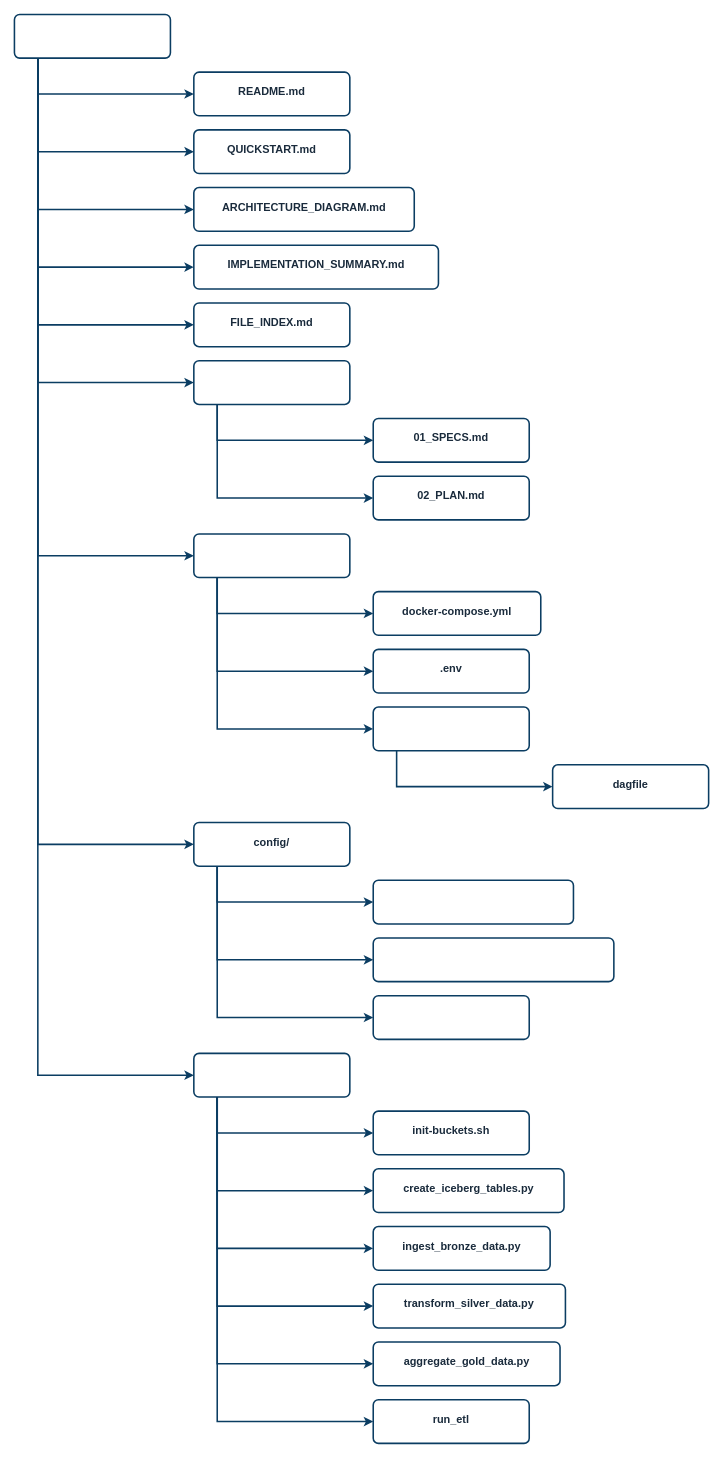
This 722x1457 diagram has some shape labels left out. Here are the shapes that lost their labels. From the top down, the centre of each, then its label:
(92,35): opendata/
(271,382): doc/
(271,555): docker/
(451,728): airflowdags
(473,901): spark/spark-defaults.conf
(493,959): trino/catalog/iceberg.properties
(451,1017): postgres/init.sql
(271,1074): scripts/
